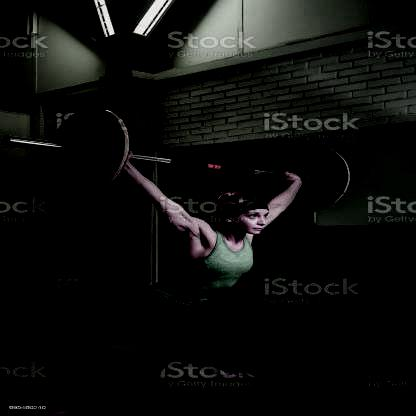Barbell: (3, 131, 18, 150)
